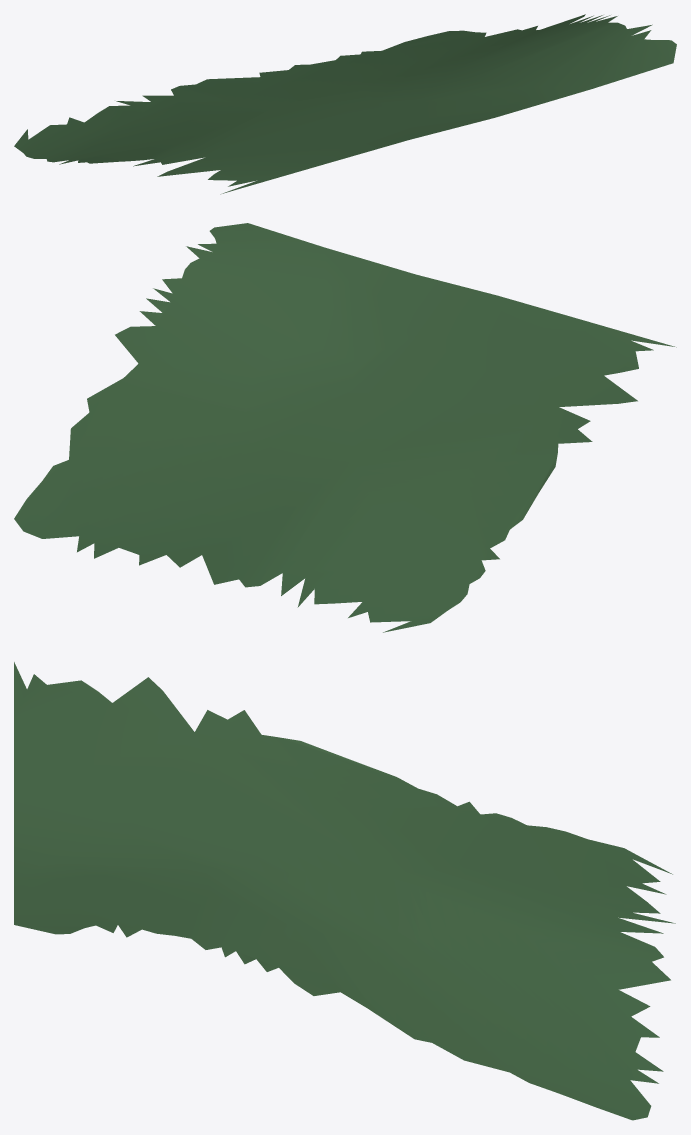
The model's file is payo_land_x2_y10_lod2.glb.
The picture shows the model from 3 angles, top to bottom: view 1: azimuth 30°, elevation 25°; view 2: azimuth 150°, elevation 25°; view 3: azimuth 270°, elevation 25°; orthographic projection. The views are drawn at different scales.
Visible parts, largest first — view 1: payo_land_x2_y10; view 2: payo_land_x2_y10; view 3: payo_land_x2_y10.
Boxes of the visible parts, box(x1,y1,x2,y2) form: payo_land_x2_y10: box(14, 14, 676, 194); payo_land_x2_y10: box(14, 223, 676, 632); payo_land_x2_y10: box(14, 662, 675, 1120).
Size of the model in its own units: 285 by 86.61 by 254.
